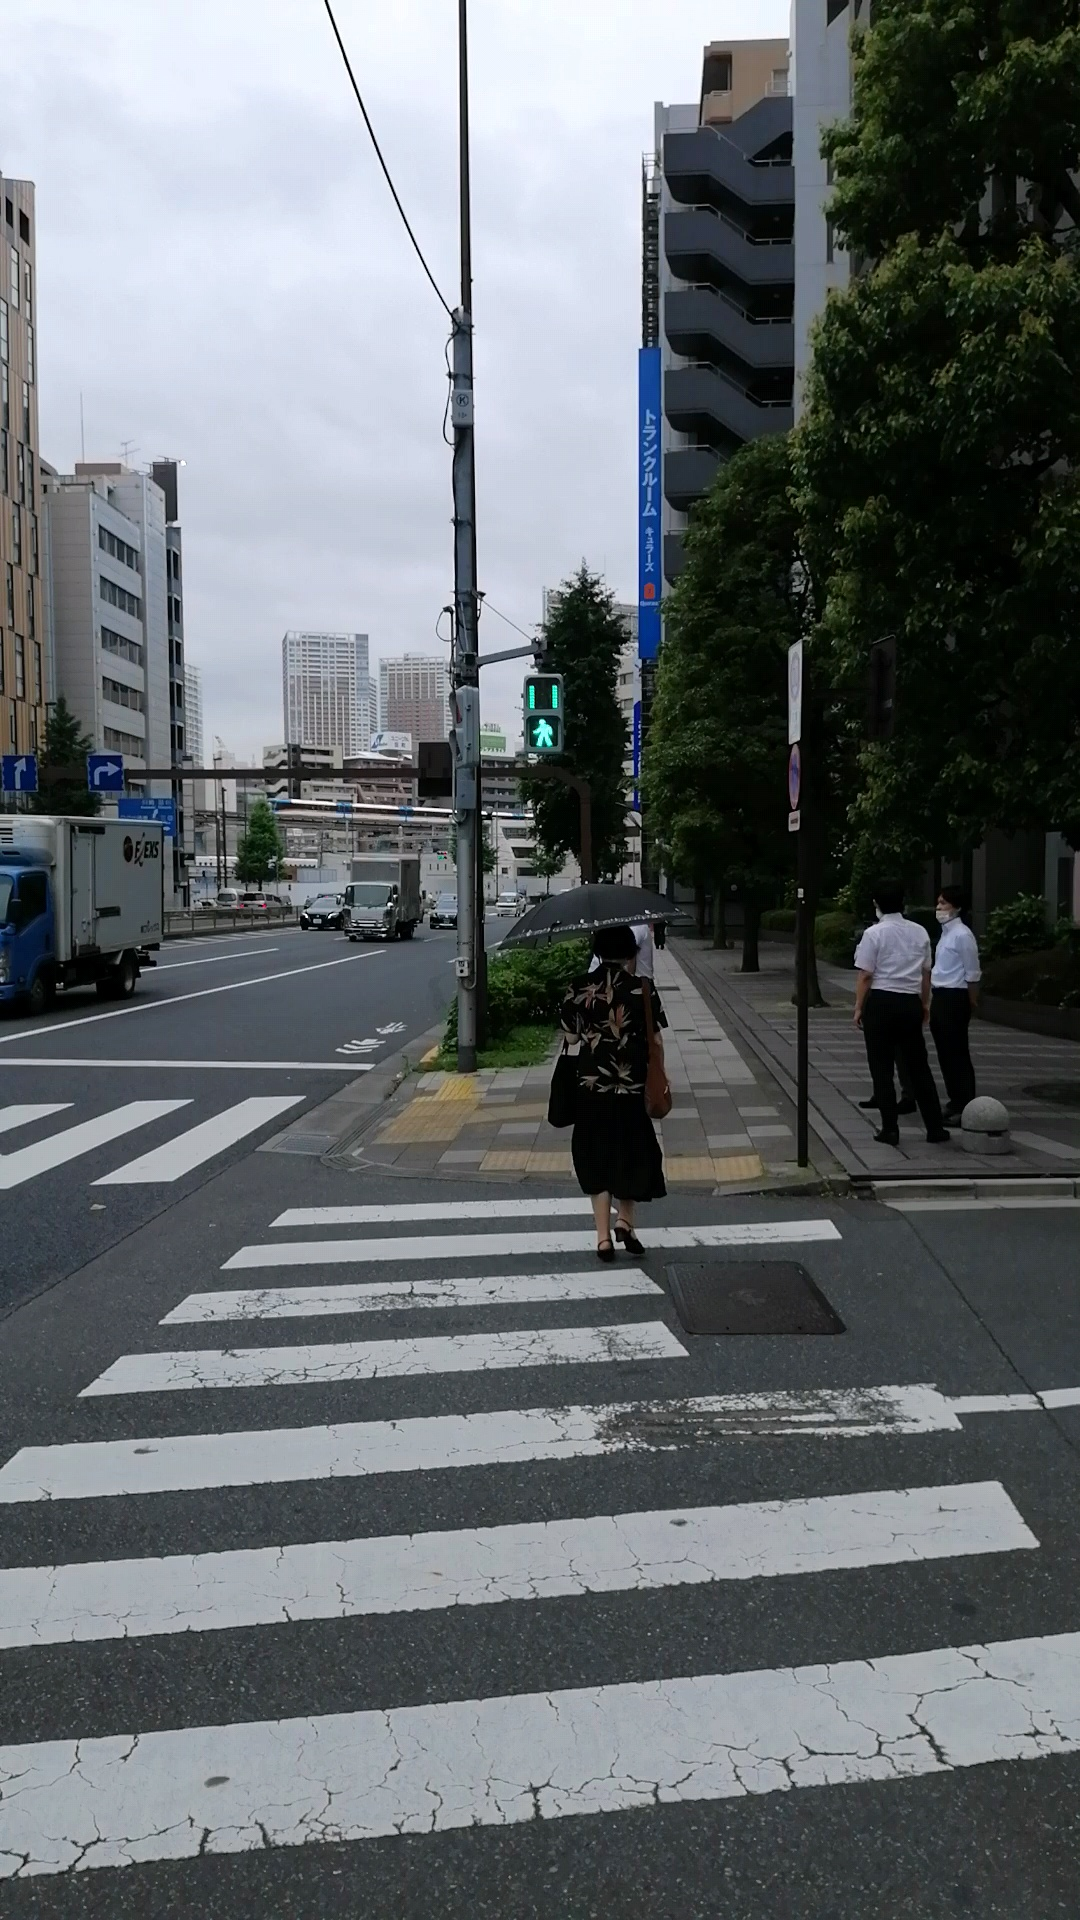green: (522, 671, 563, 752)
